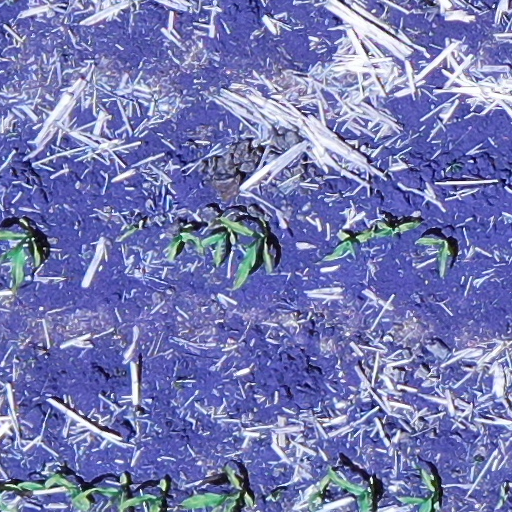planta: (215, 216, 272, 287), (328, 229, 379, 259), (365, 217, 421, 238), (419, 237, 452, 271), (167, 232, 204, 261), (11, 473, 62, 491), (198, 233, 227, 264)
